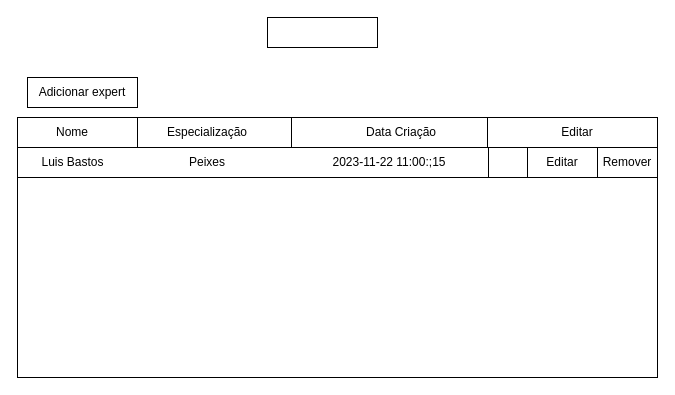
This 675x395 diagram has some shape labels left out. Here are the shapes that lost their labels. From the top down, the centre of each, then its label:
(322,32): Lista de experts
(508,162): ver
